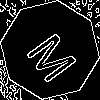M: (25, 25, 86, 86)
